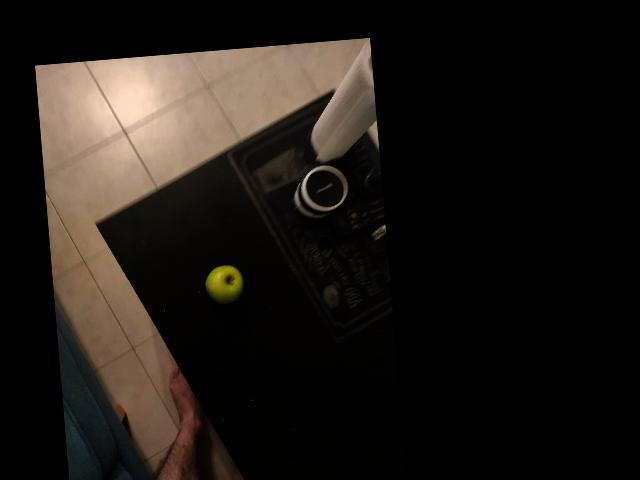apple: (113, 200, 175, 264)
